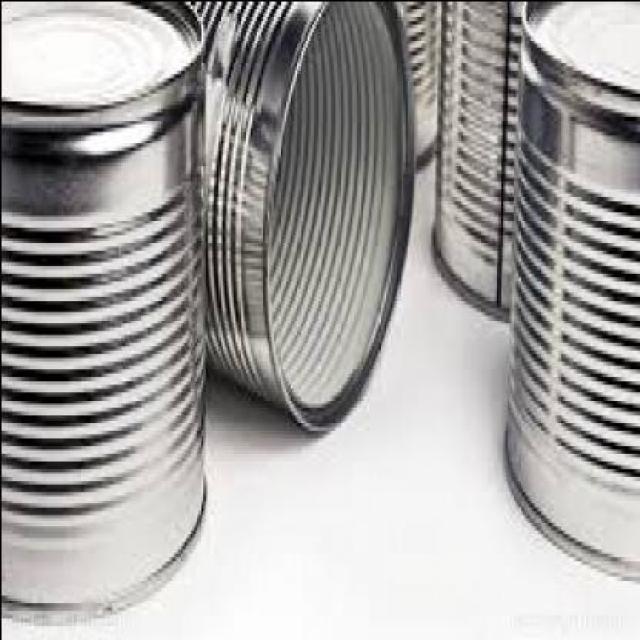METAL: (2, 0, 208, 622), (183, 1, 415, 434), (502, 1, 638, 577), (429, 0, 529, 326), (392, 2, 445, 165)
